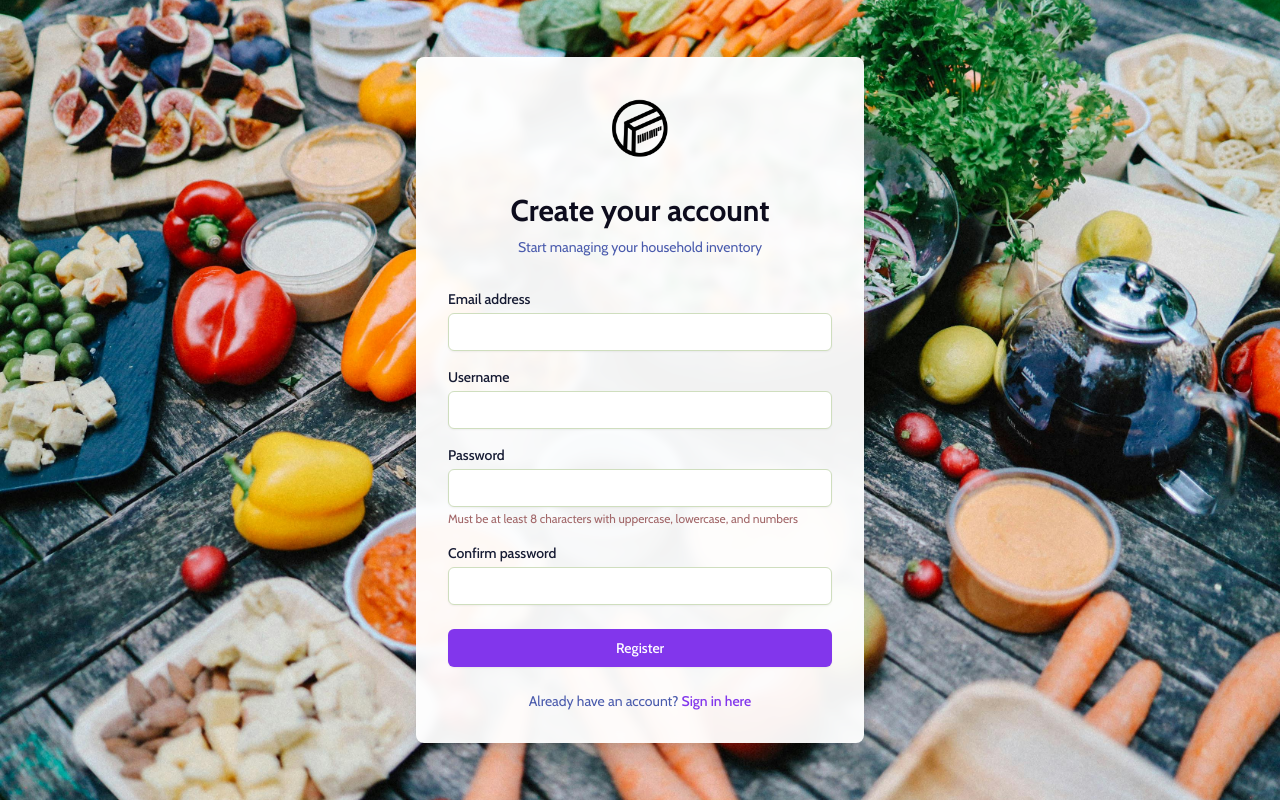
Scenario: Register page › maps a duplicate-email detail to a friendly error
In the field labelled "Email address": (640,332) top-left (448, 313), bottom-right (832, 351), type "a@b.c"
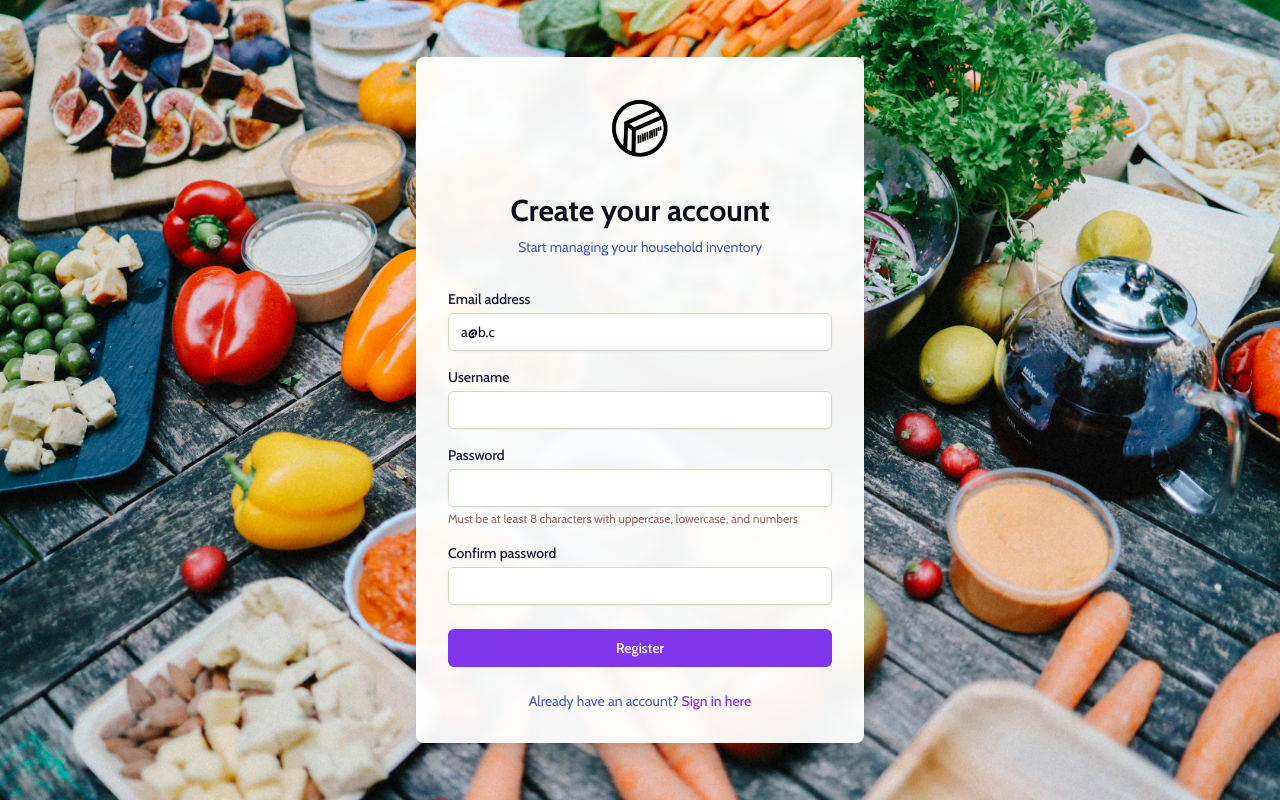
In the field labelled "Username": (640,410) top-left (448, 391), bottom-right (832, 429), type "alice"
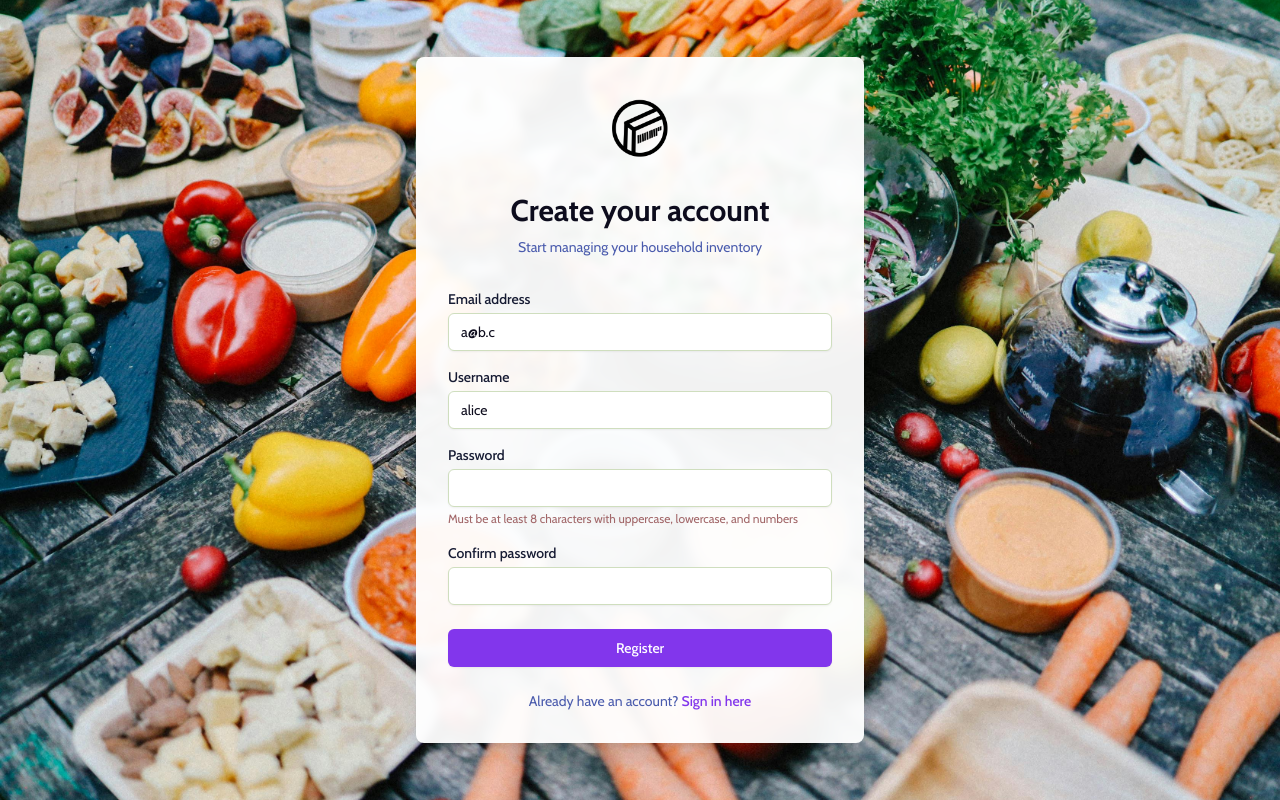
In the password field labelled "Password": (640,488) top-left (448, 469), bottom-right (832, 507), type "password1"
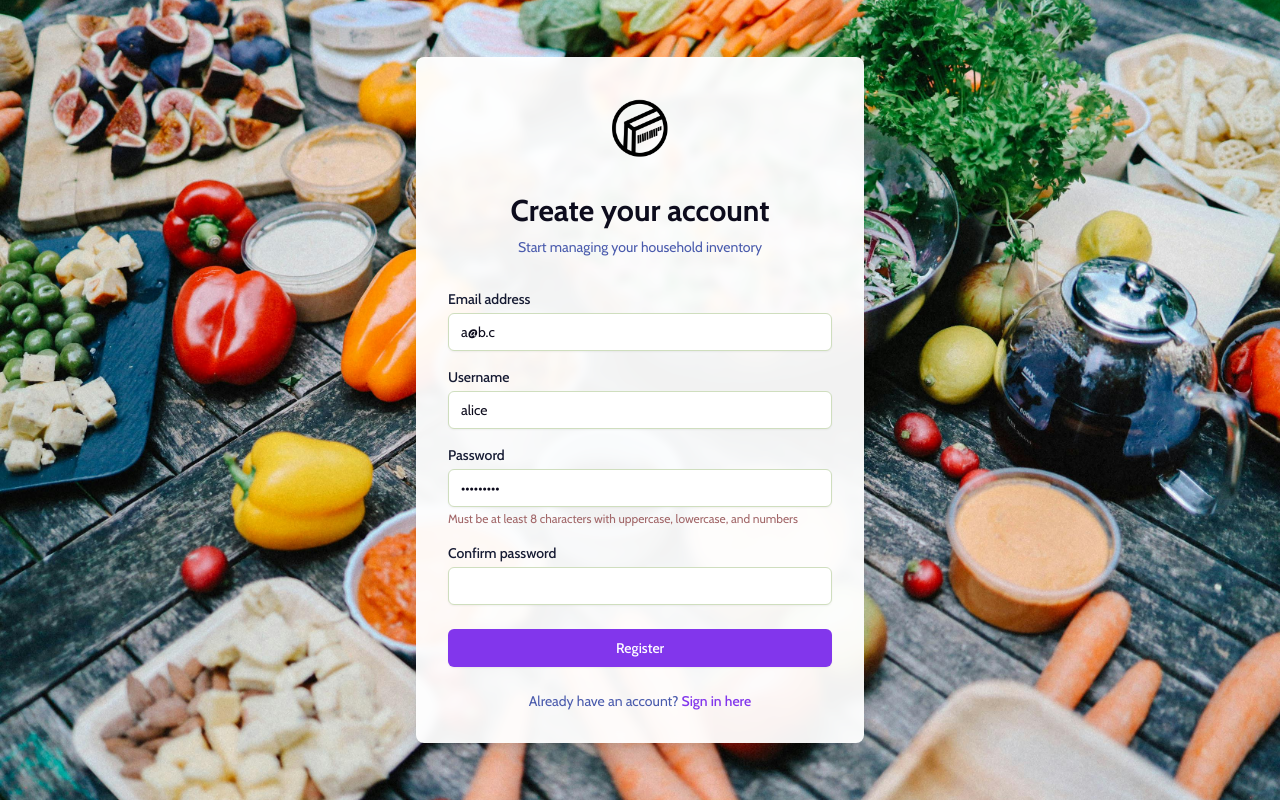
In the password field labelled "Confirm password": (640,586) top-left (448, 567), bottom-right (832, 605), type "password1"
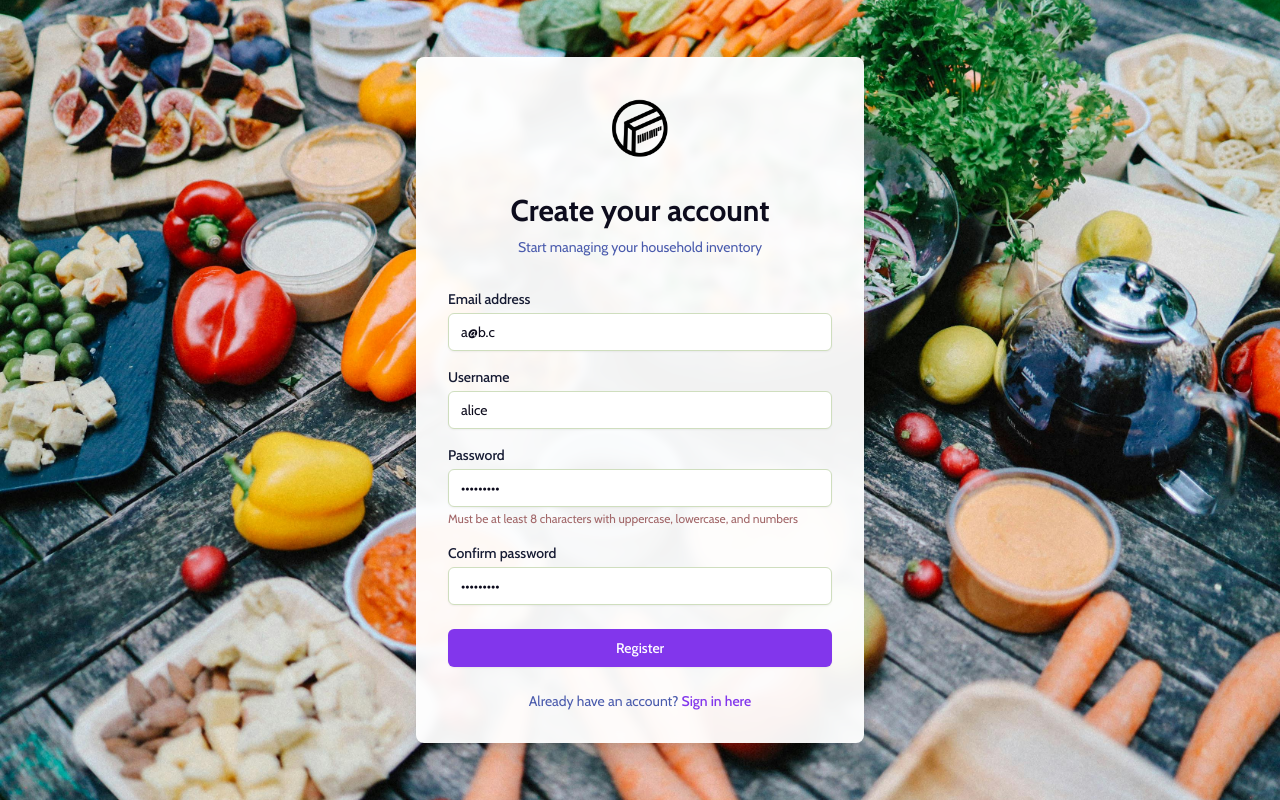
Click the button "Register": (640,648) top-left (448, 629), bottom-right (832, 667)
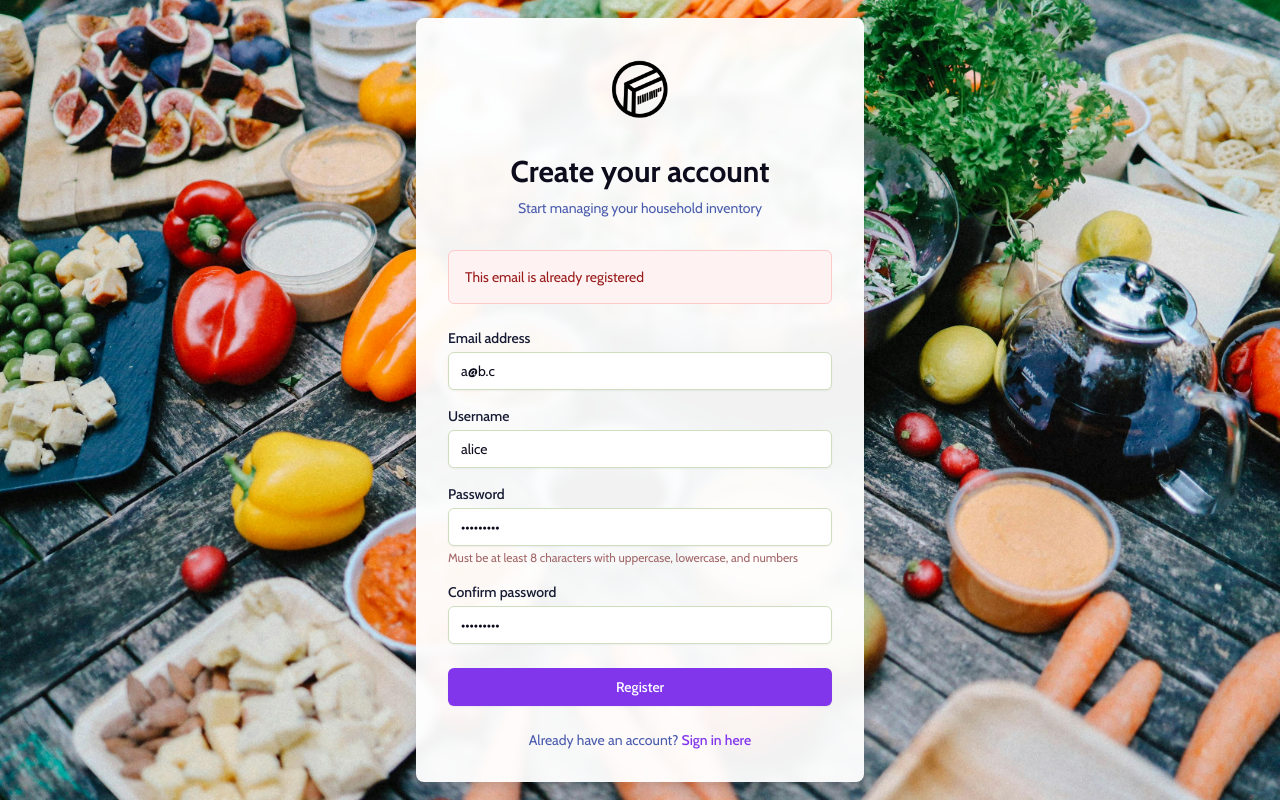
Check: the text "This email is already registered" is shown, box top-left (465, 268), bottom-right (644, 286)
